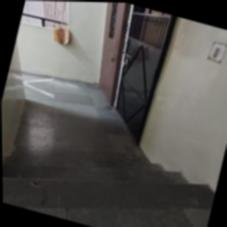Animal: (21, 129, 170, 223)
